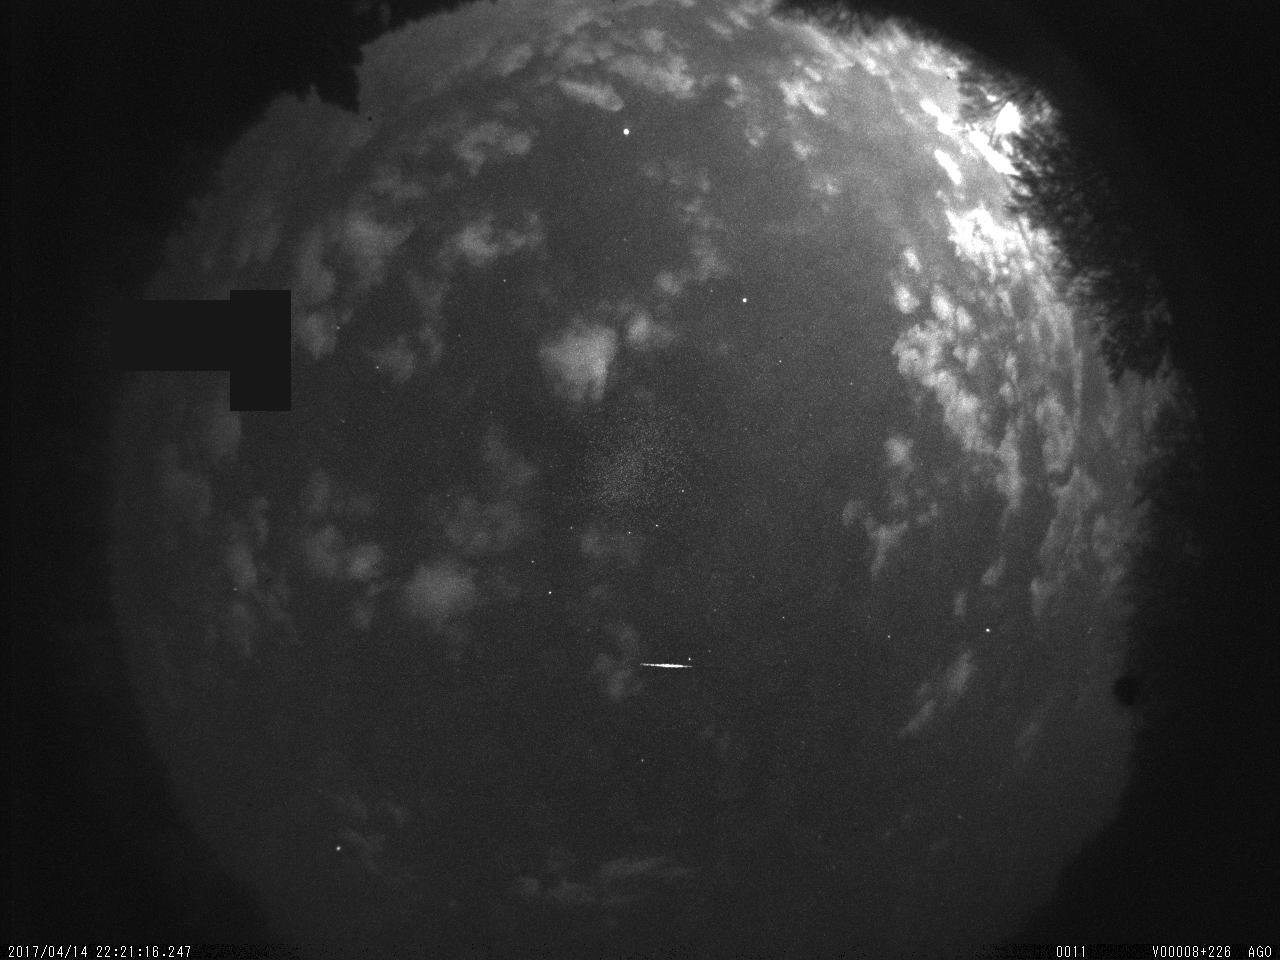meteor: (633, 657, 701, 678)
